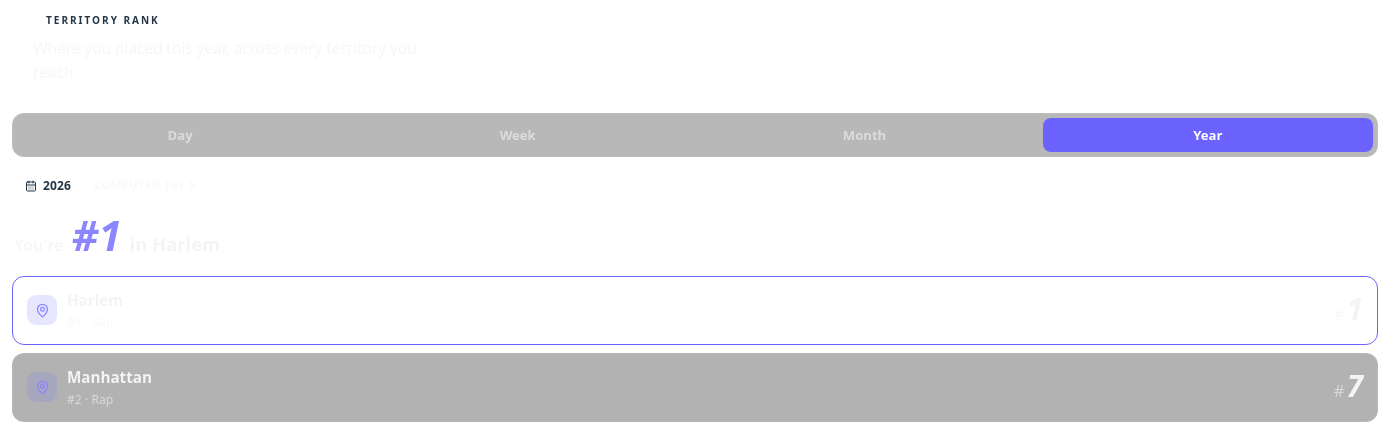
Test: TerritoryRankSection › Day tab shows yesterday's ranks and switches the caption copy
Expected: the text "#1" is shown, left=72, top=217, right=122, bottom=254
Click the tab "Day" at (180, 135), box left=17, top=118, right=343, bottom=152
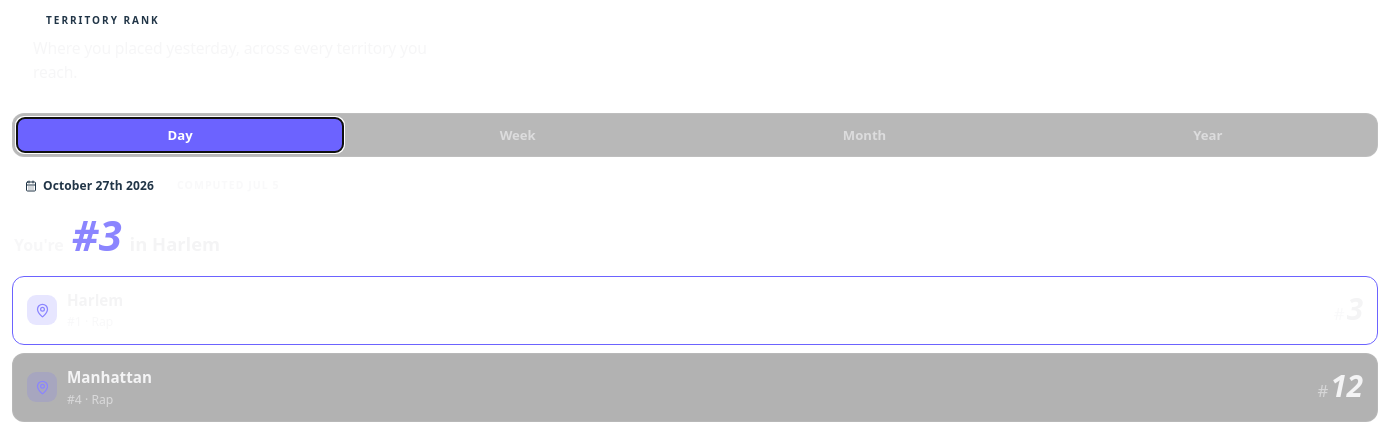
Result: the text "#3" is shown at left=72, top=217, right=122, bottom=254
